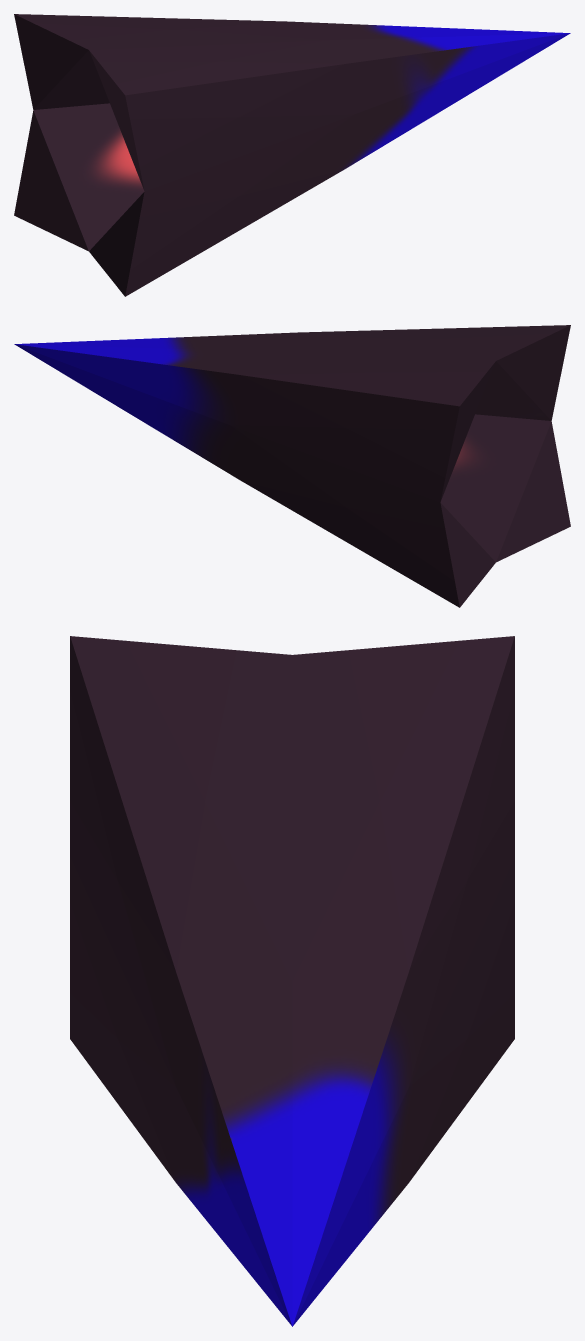
The model's file is bird.gltf.
3 renders of one model, top to bottom at view 1: azimuth 30°, elevation 25°; view 2: azimuth 150°, elevation 25°; view 3: azimuth 270°, elevation 25°, orthographic. The views are drawn at different scales.
Parts seen in each view (by area): view 1: Cube; view 2: Cube; view 3: Cube.
Part boxes in pixels (box(x1,y1,x2,y2)): Cube: box(14, 14, 570, 296); Cube: box(14, 325, 570, 607); Cube: box(70, 636, 514, 1326).
Bounding box in the file's own units: 32.28 × 12.4 × 12.4.
Materials: 1 (1 with a texture image).
